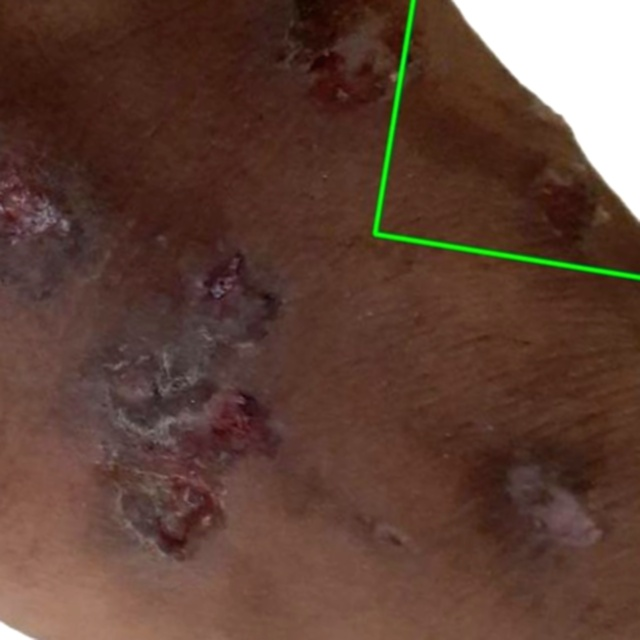Eczema: (376, 0, 639, 276)
